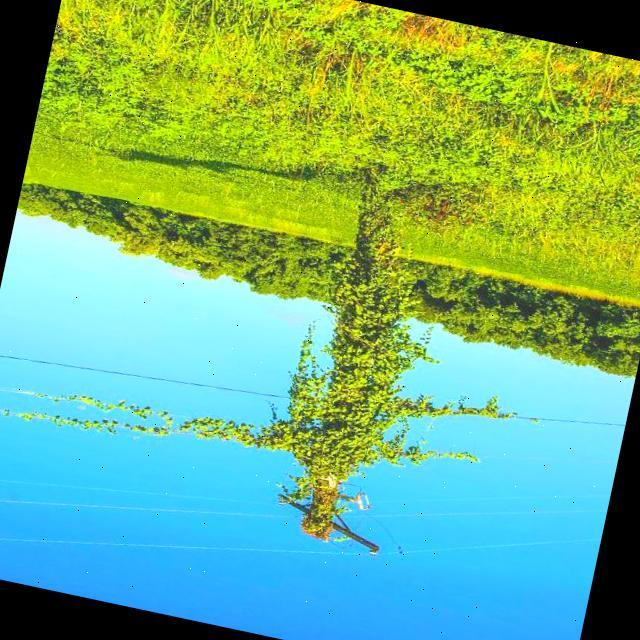critical vegetation: (212, 293, 487, 572)
